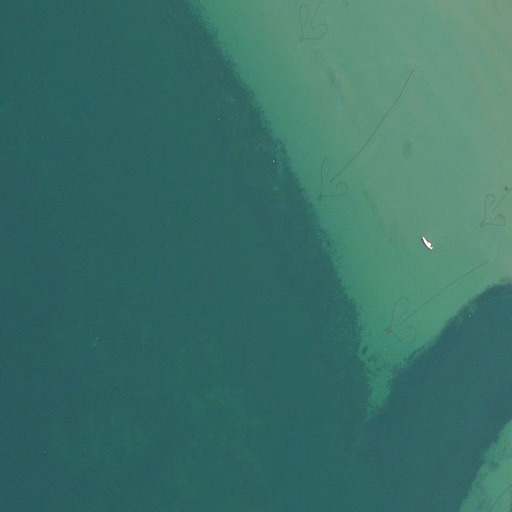ship: (419, 234, 434, 251)
